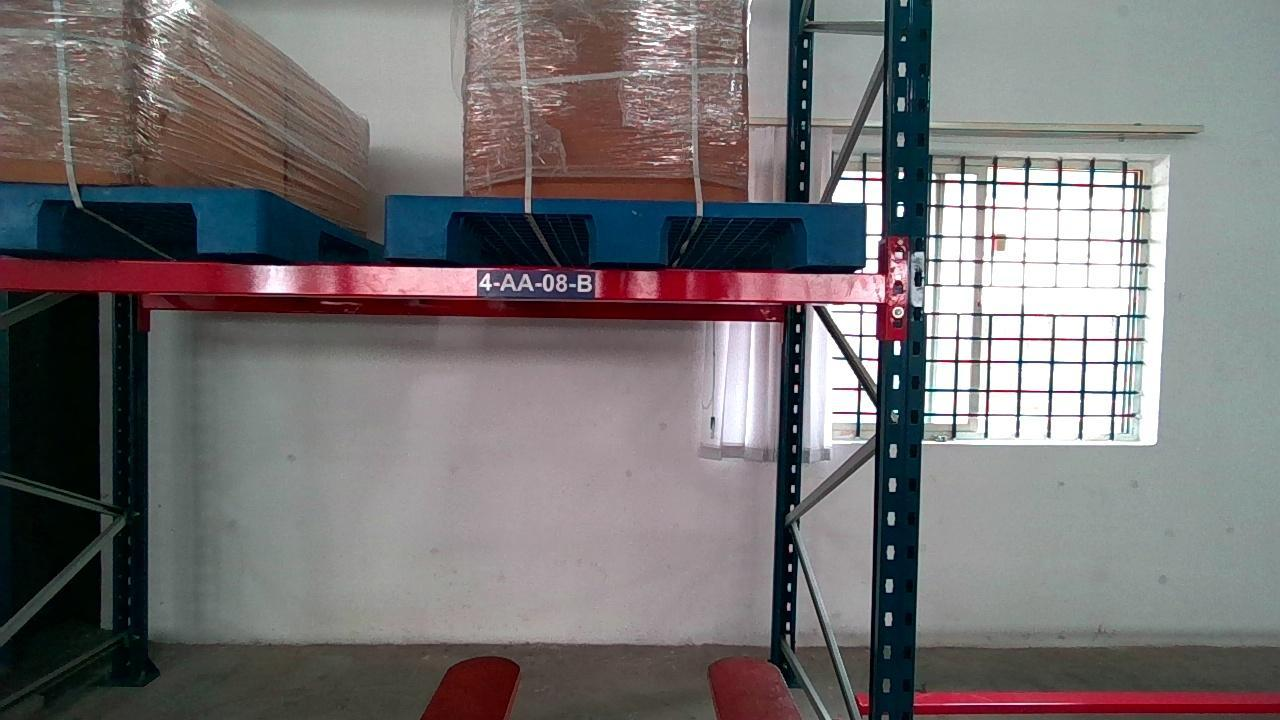h_rack: (0, 256, 886, 298)
small_pallet: (388, 196, 868, 265), (0, 186, 262, 251)
